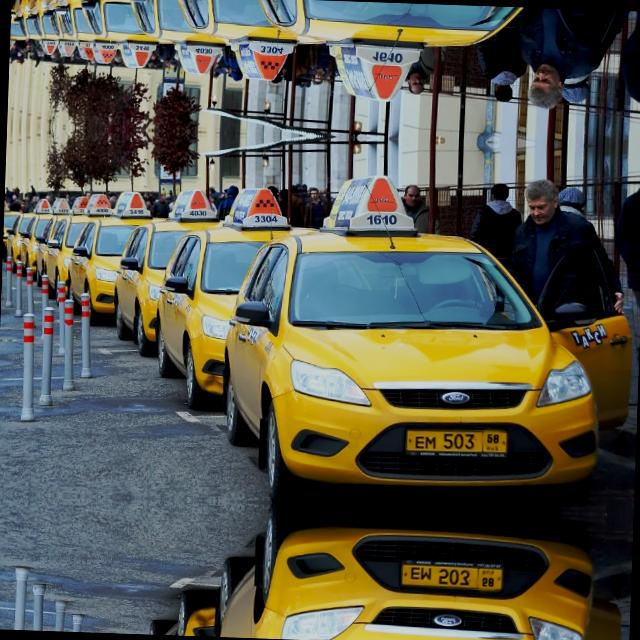taxi: (399, 422, 511, 463), (394, 552, 506, 593)
